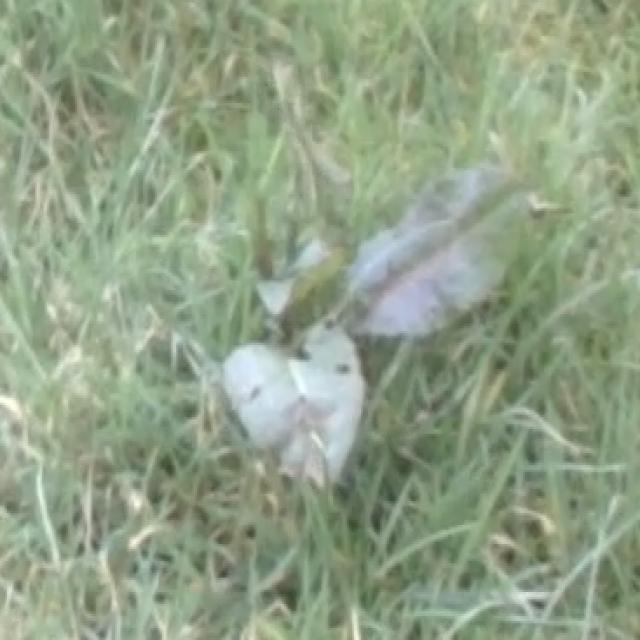organic waste: (203, 118, 553, 500)
